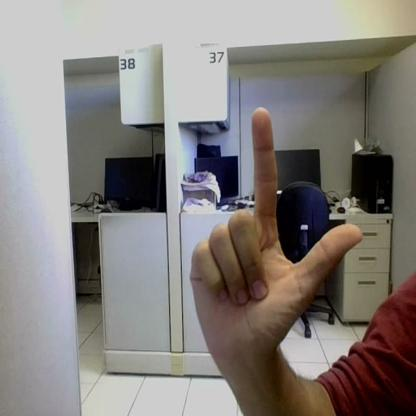L: (189, 108, 362, 351)
